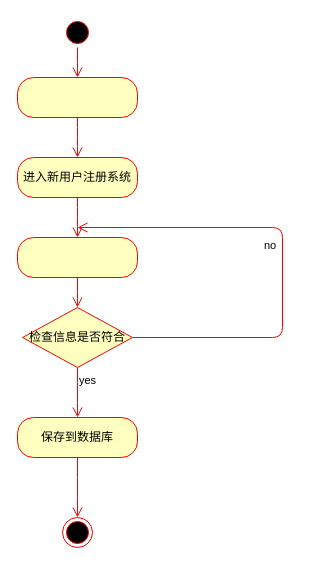
The diagram is 310 pixels wide and 565 high, and some of its shapes have lost their labels. The centre of each missing label's shape, as x and y in pixels:
"新用户注册" goes at point (77, 97).
"输入注册信息" goes at point (77, 257).
